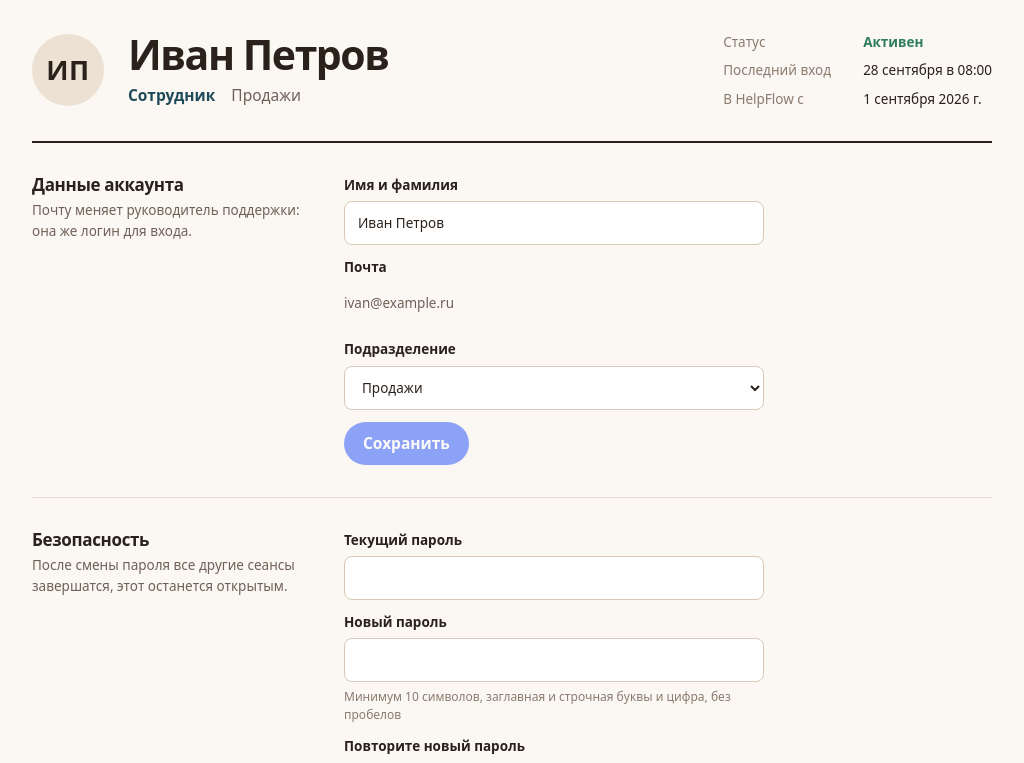
Scenario: ProfilePage › edits own name and department
Replace the text in the field labelled "Имя и фамилия" with "Иван Петров-Водкин" at (554, 223), box [344,201,764,245]
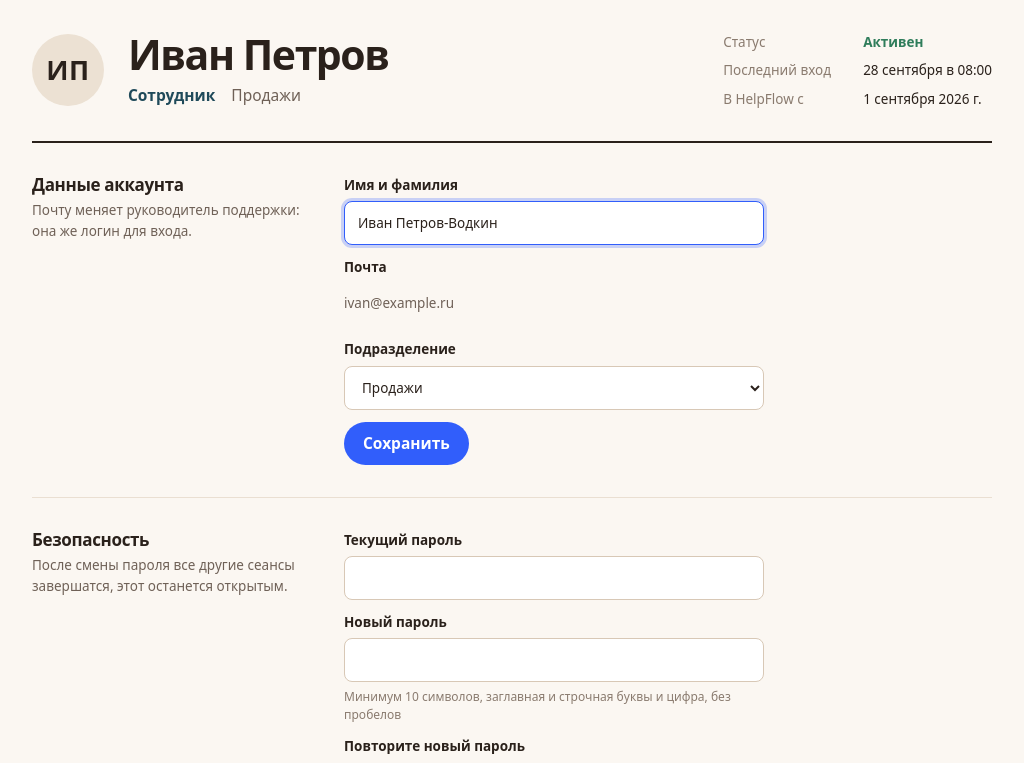
Select "Финансы" in the dropdown labelled "Подразделение" at (554, 388), box [344,366,764,410]
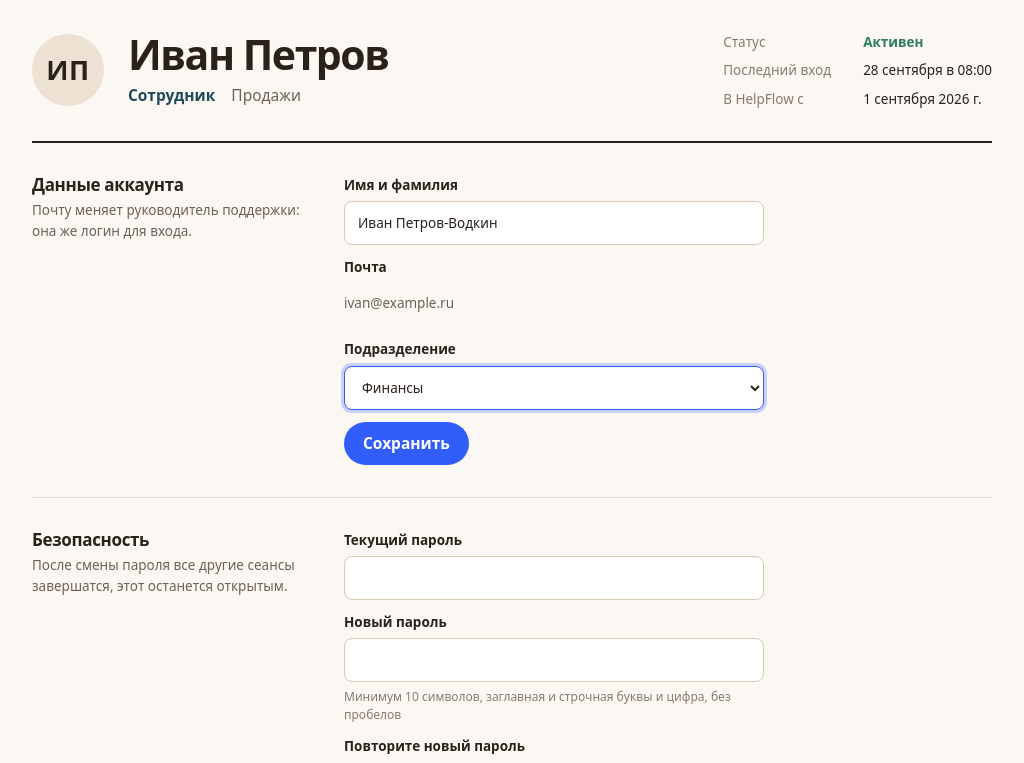
Click the button "Сохранить" at (406, 443), box [344,422,469,465]
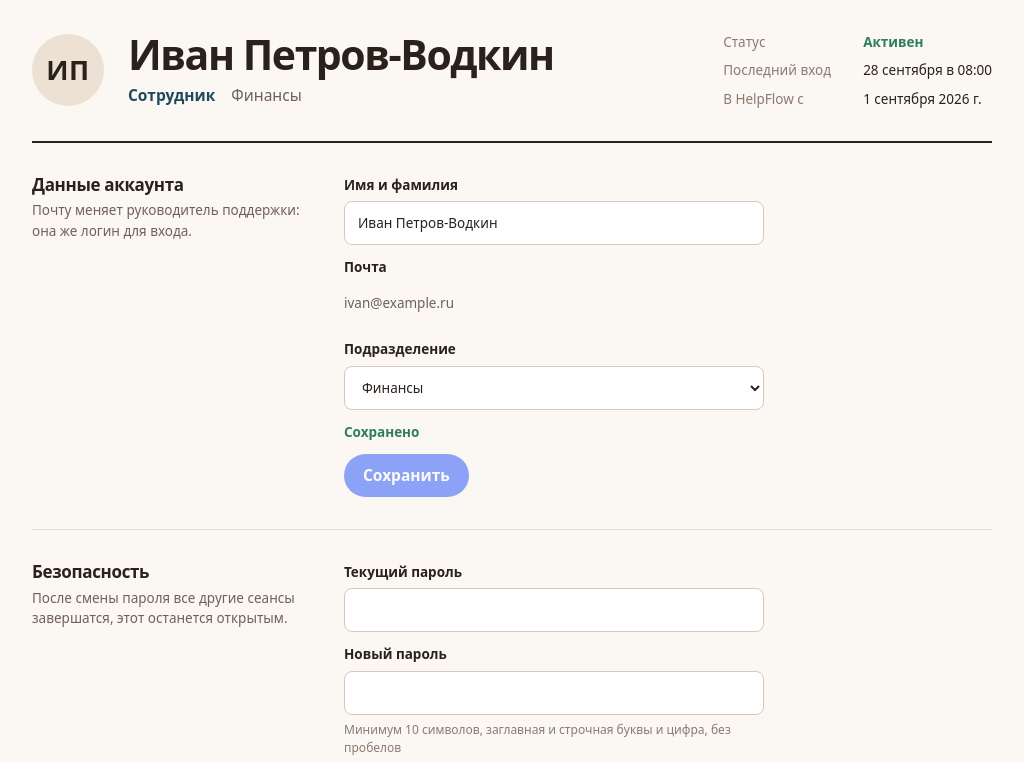
Expected: the text "Сохранено" is shown, [344,422,419,440]
Expected: the heading "Иван Петров-Водкин" is shown, [128,26,554,82]
